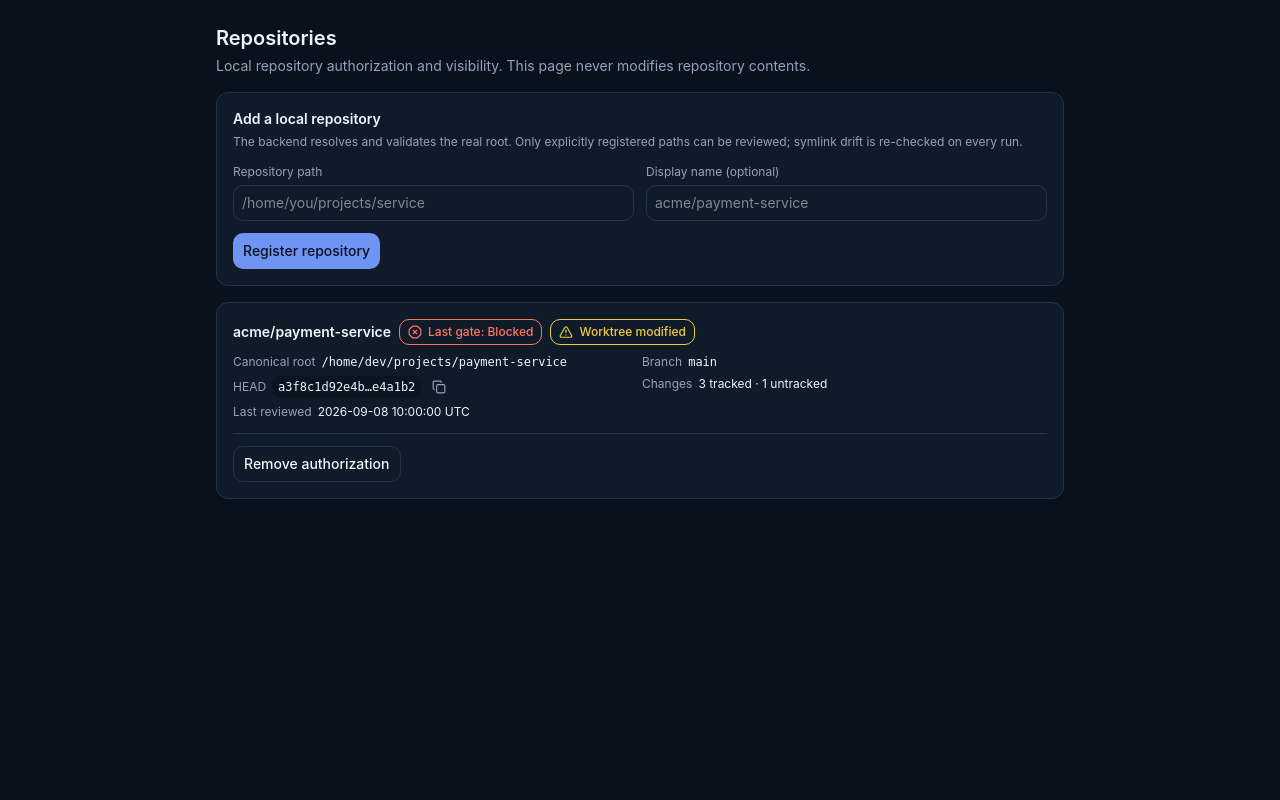
RepositoriesPage › confirms removal with copy that nothing on disk is deleted
Expected: the heading "acme/payment-service" is shown, [233, 322, 391, 342]
Step 1. Click the button "Remove authorization" → (317, 464), box [233, 446, 400, 482]
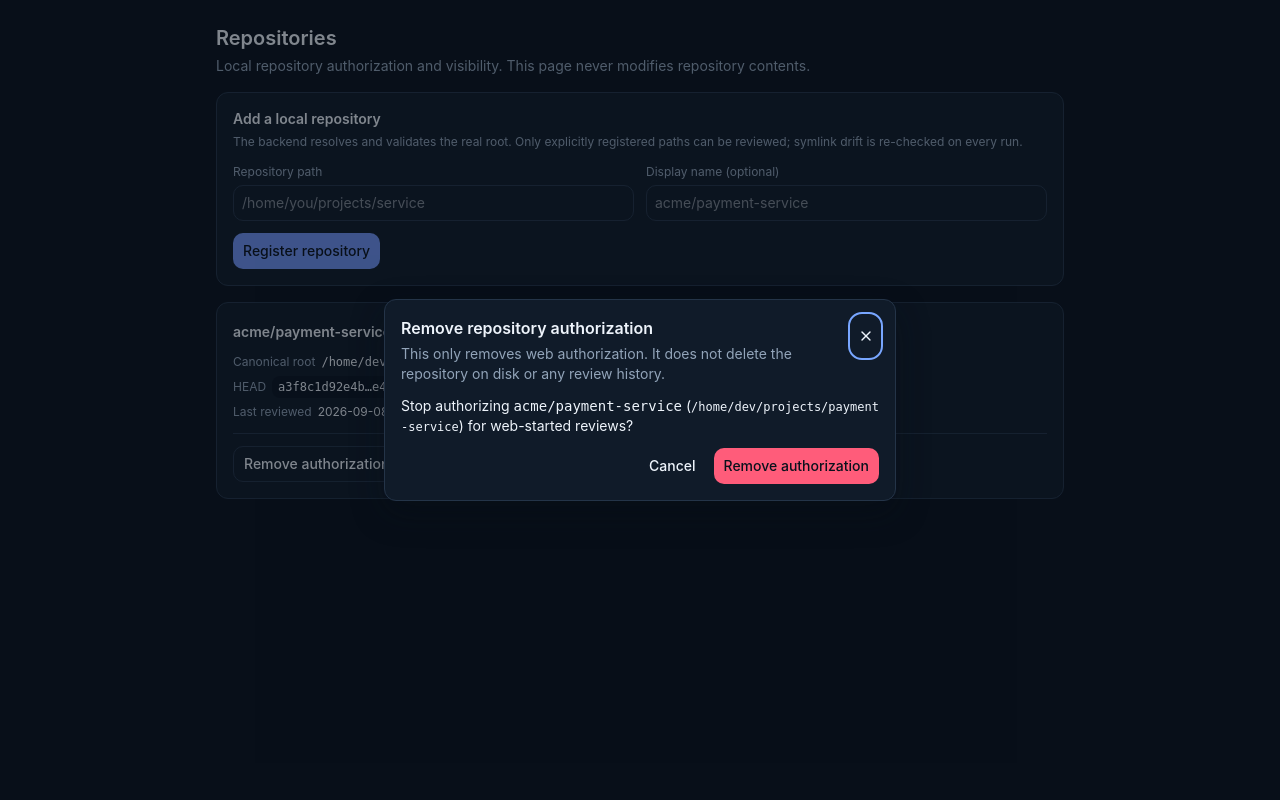
Expected: the text "does not delete the repository on disk" is shown, [401, 345, 792, 382]
Step 2. Click the button "Remove authorization" → (796, 466), box [714, 448, 879, 484]
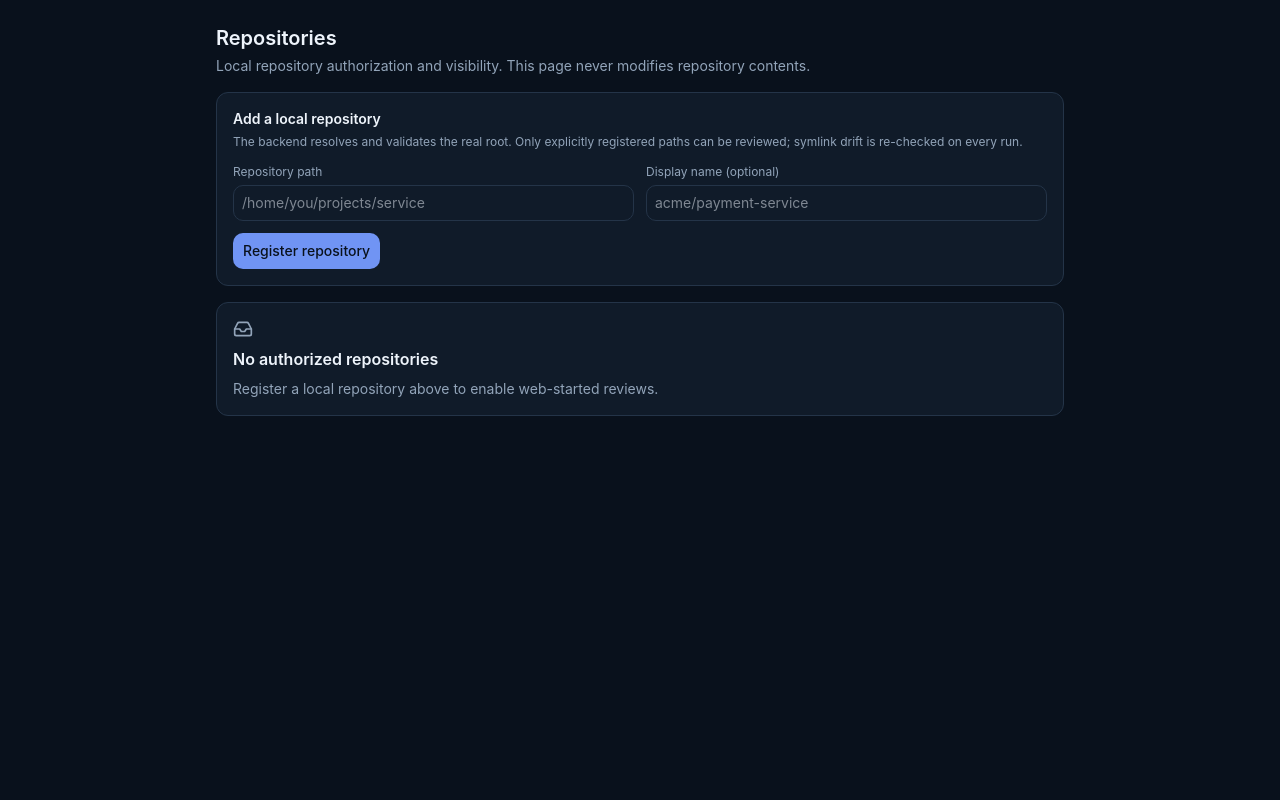
Expected: the heading "No authorized repositories" is shown, [233, 347, 438, 371]
